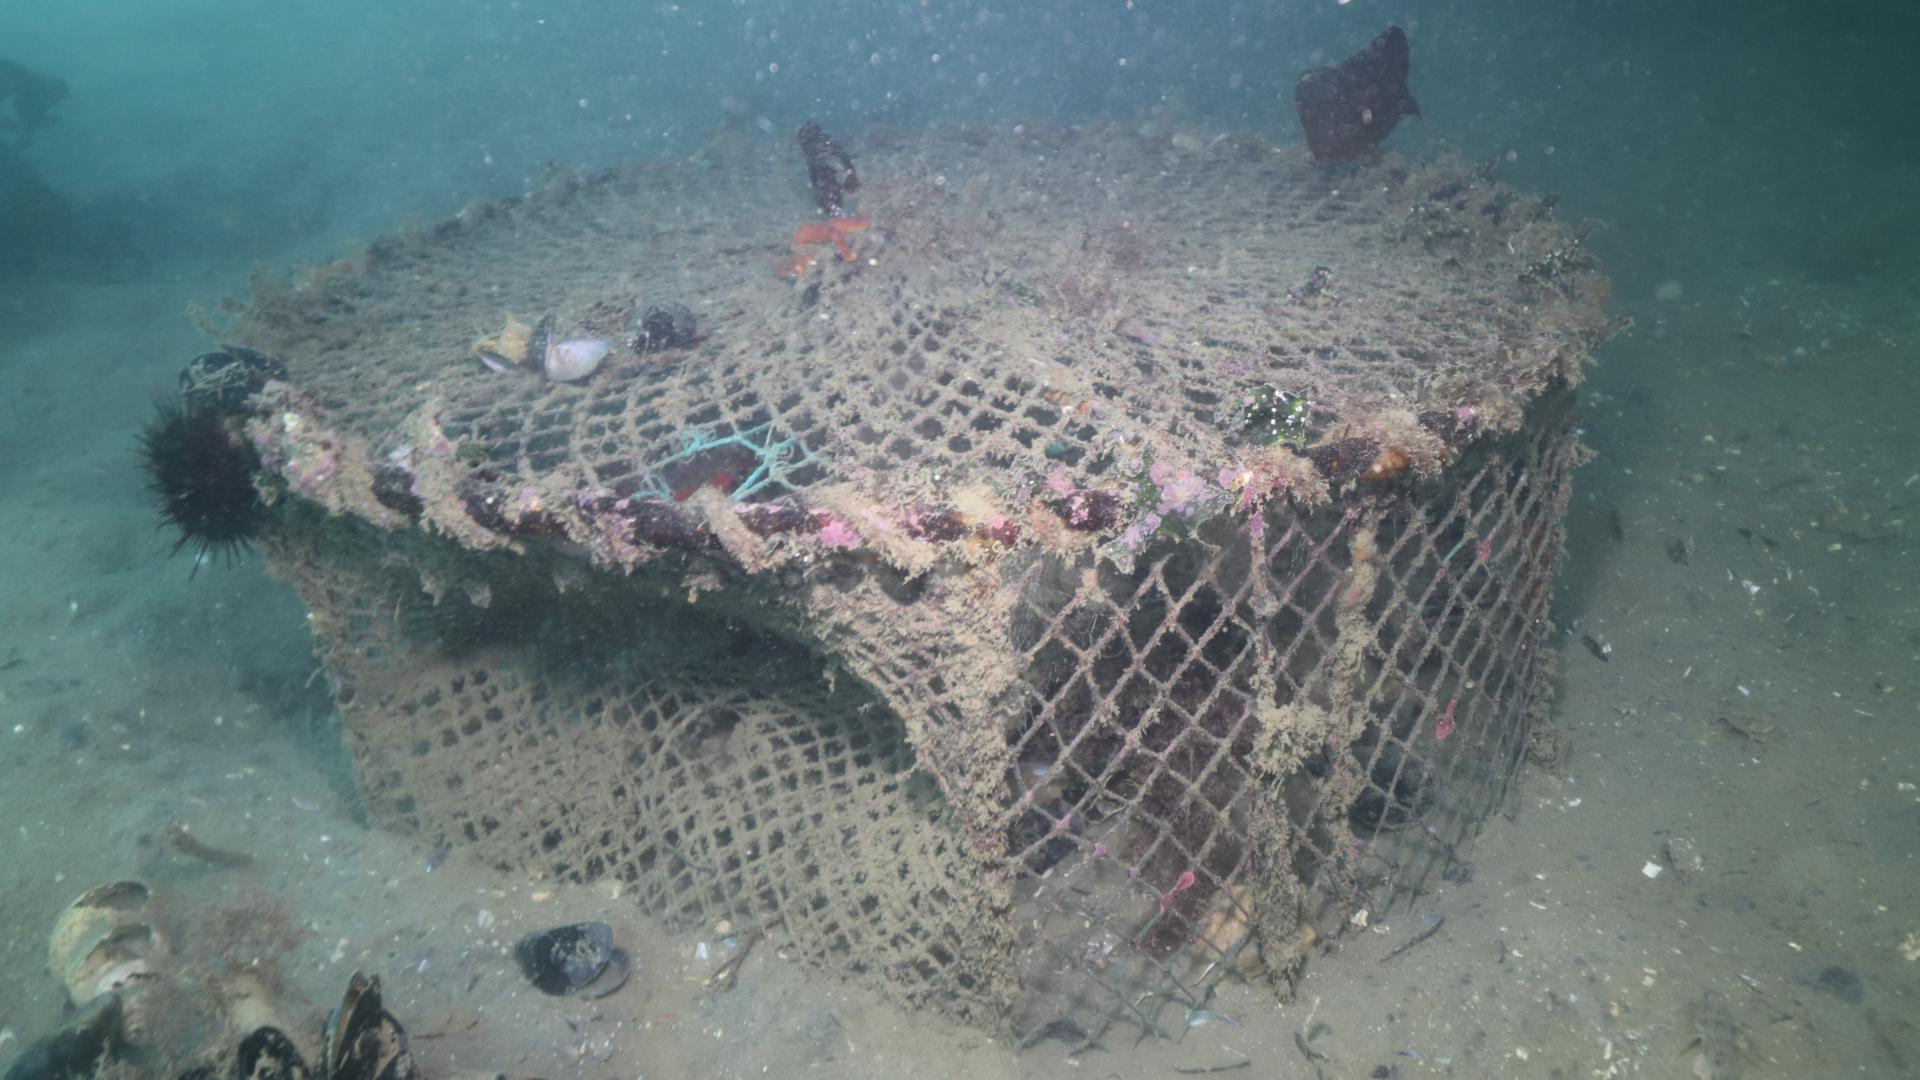circular fish trap: (204, 117, 1611, 1051)
